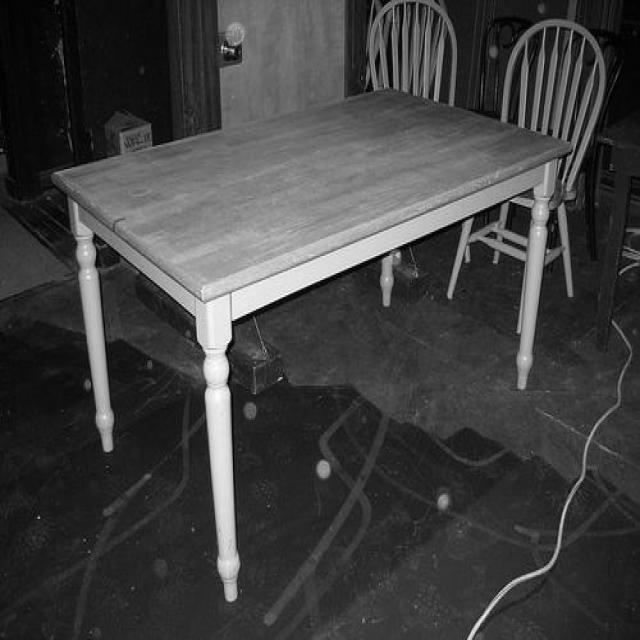table: (53, 86, 566, 598), (446, 21, 606, 328)
